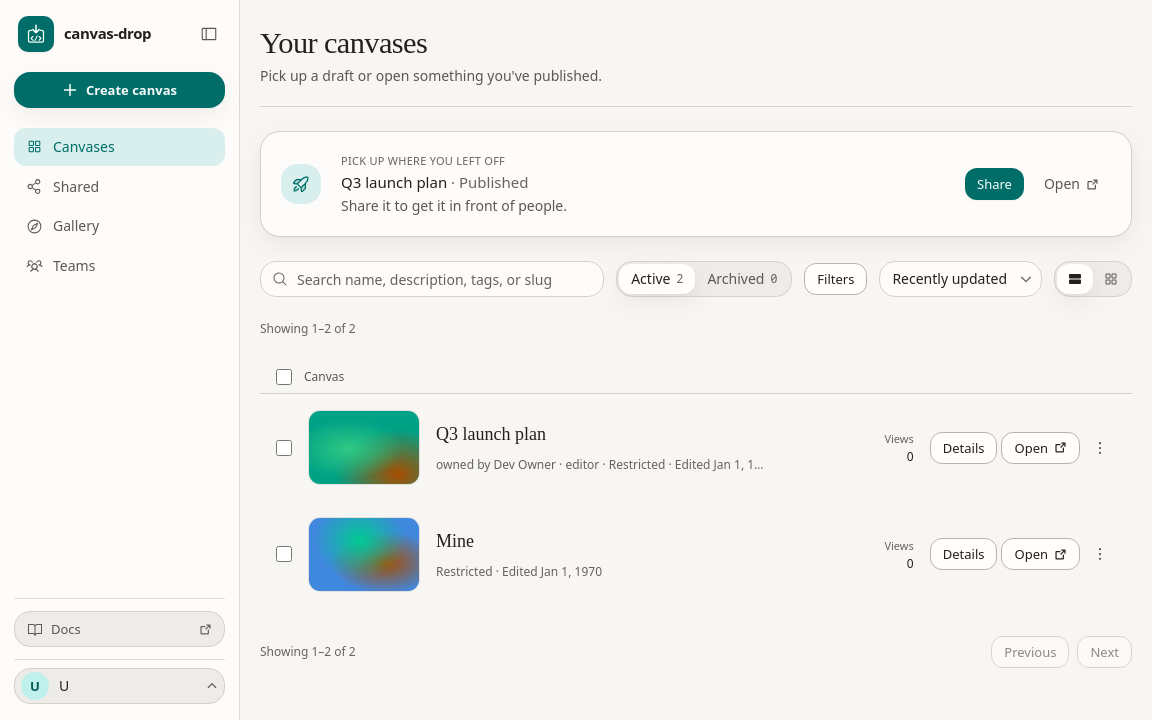
Your canvases — server-side filters (plan 005) › marks a canvas you edit but don't own with its owner, in the grid card and the list row (editor-roles plan F1)
Expected: the link with aria-label "View details for Q3 launch plan" is shown, top-left (436, 424), bottom-right (546, 444)
Expected: the text "Dev Owner" is shown, top-left (436, 456), bottom-right (770, 473)
# Grid: the compact marker is its own badge on the card.
Step 1. Click the button named "grid view" → (1111,279), box top-left (1093, 264), bottom-right (1129, 294)
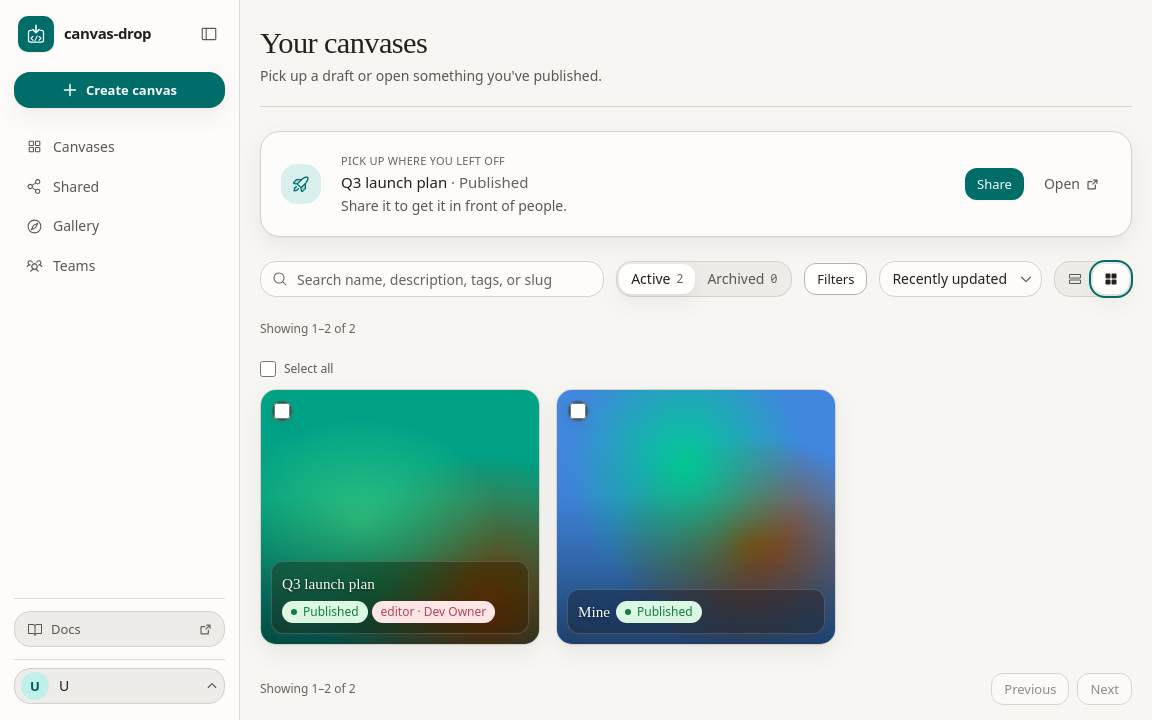
Result: the text "editor · Dev Owner" is shown at top-left (372, 601), bottom-right (495, 623)
# List: the marker leads the row's meta line.
Step 2. Click the button named "list view" → (1075,279), box top-left (1057, 264), bottom-right (1093, 294)
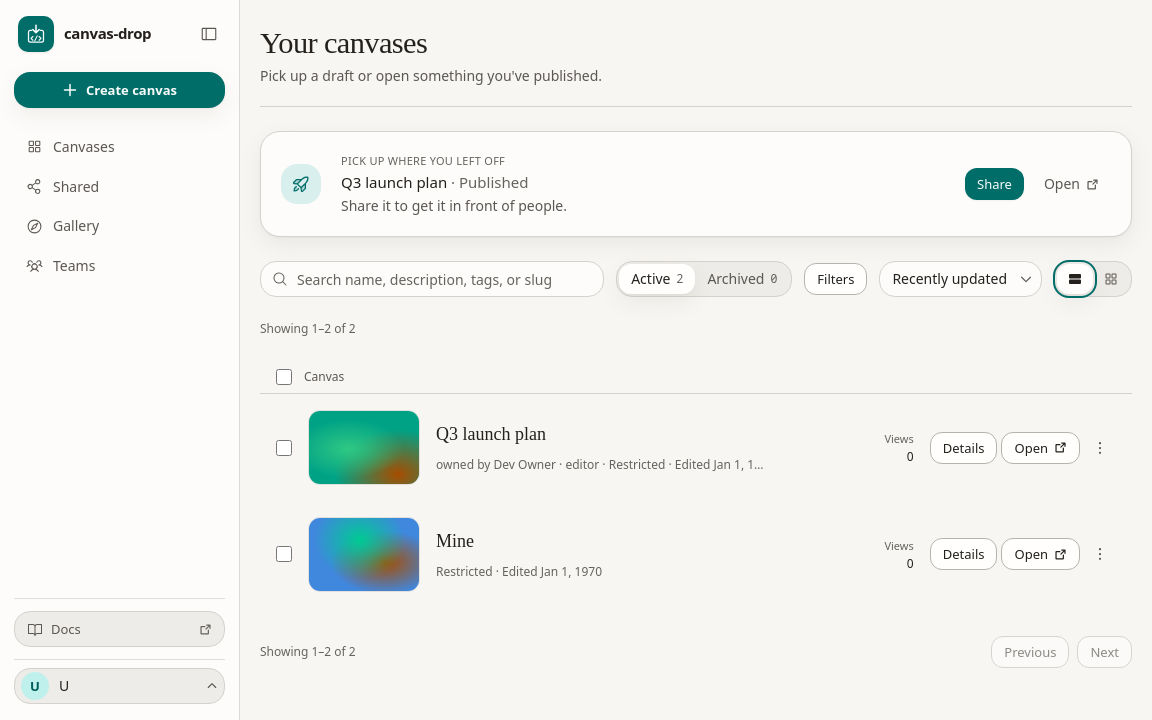
Result: the text "owned by Dev Owner · editor" is shown at top-left (436, 456), bottom-right (770, 473)
